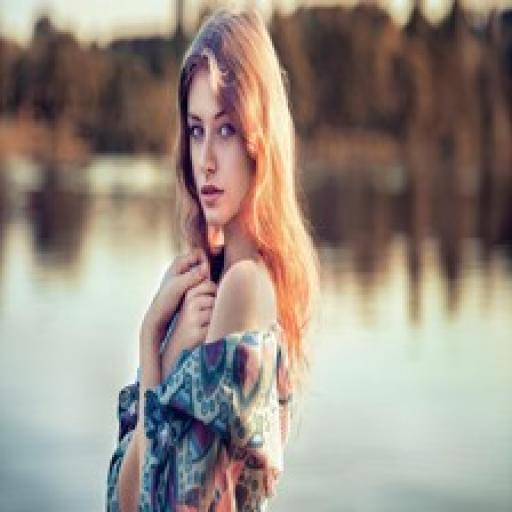human: (72, 3, 338, 512)
